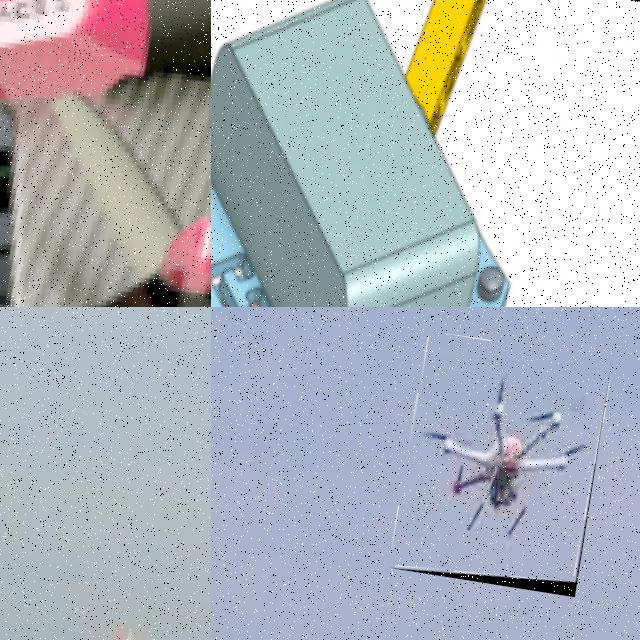0: (390, 332, 612, 598)
drone: (211, 0, 640, 307), (0, 0, 211, 307)
